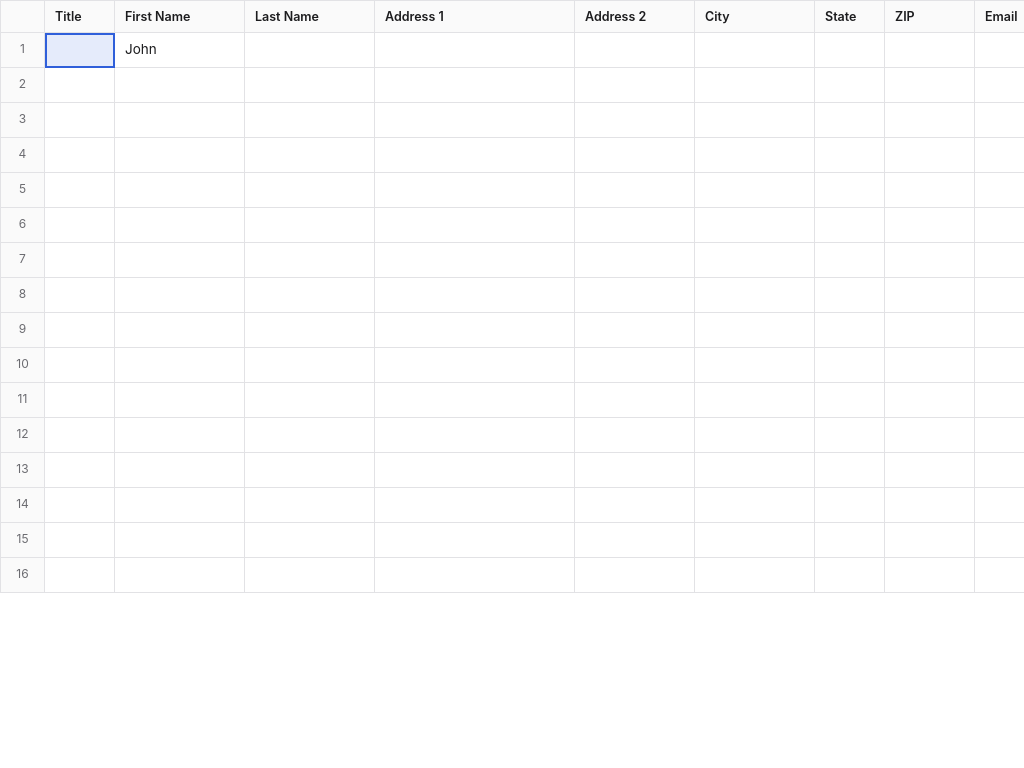
keyboard navigation WHILE editing › Left at the very beginning of the text commits and moves to the cell on the left
This screenshot has width=1024, height=768.
Double-click the cell "John" at (180, 50), box [114,32,244,68]
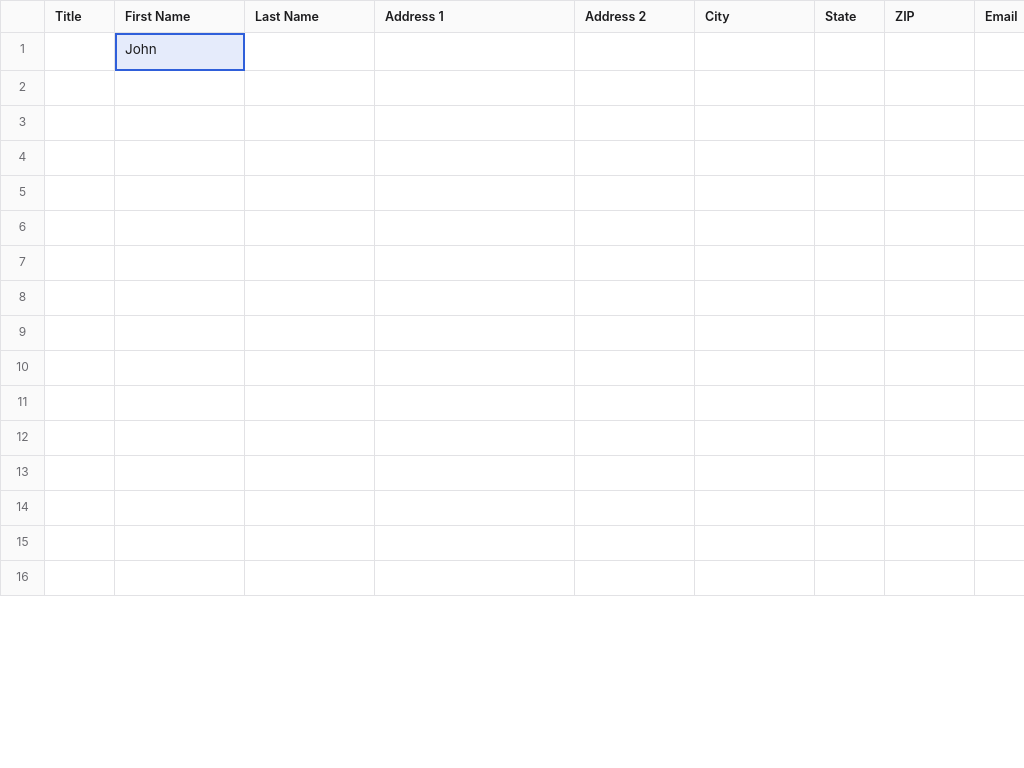
Press ArrowLeft in the text box with class "cell-editor", box [115,33,244,67]
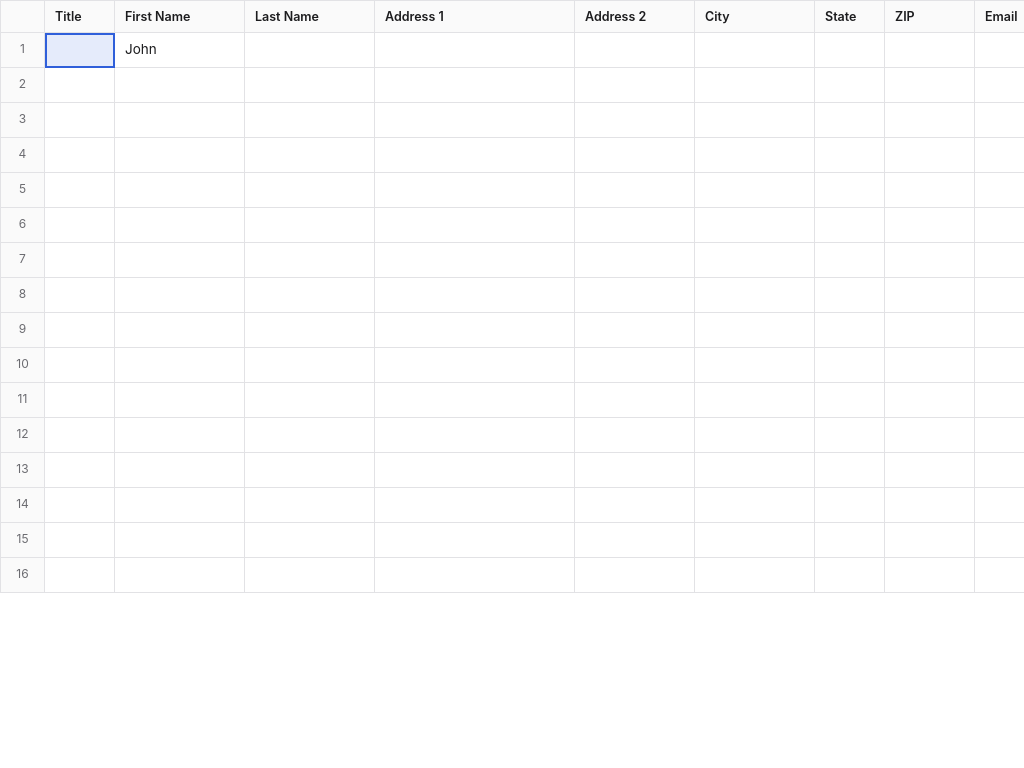
Check: the text box with class "cell-editor" is gone
